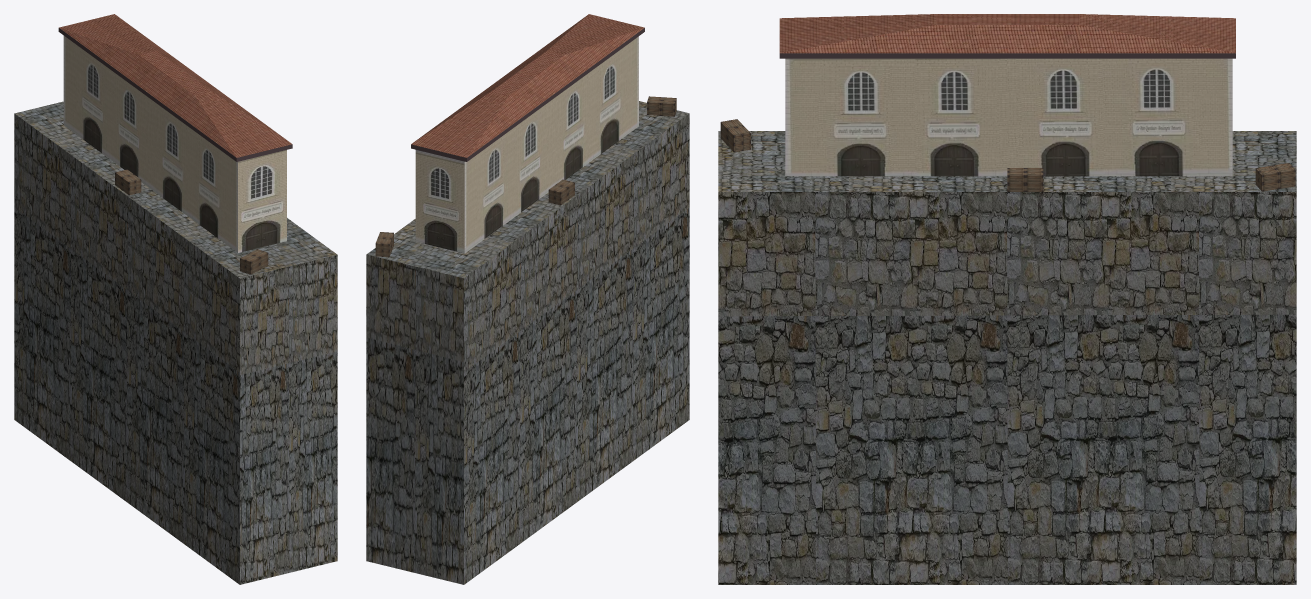
Rendered from market.glb.
The picture shows the model from 3 angles, left to right: view 1: azimuth 30°, elevation 25°; view 2: azimuth 150°, elevation 25°; view 3: azimuth 270°, elevation 25°; orthographic projection. The views are drawn at different scales.
Visible parts, largest first — view 1: Cube.002, Cube, Cube.001, Cube.008; view 2: Cube.002, Cube, Cube.001, Cube.008; view 3: Cube.002, Cube, Cube.001, Cube.008.
Part boxes in pixels (box(x1,y1,x2,y2)): Cube.002: box(14, 101, 337, 584); Cube: box(63, 36, 286, 252); Cube.001: box(58, 14, 292, 161); Cube.008: box(115, 169, 268, 274); Cube.002: box(366, 101, 689, 584); Cube: box(415, 36, 638, 253); Cube.001: box(411, 14, 644, 161); Cube.008: box(375, 96, 676, 257); Cube.002: box(718, 131, 1296, 584); Cube: box(785, 58, 1232, 176); Cube.001: box(779, 14, 1235, 58); Cube.008: box(720, 119, 1295, 191).
Size of the model in its own units: 2 by 8.17 by 8.
5 materials, 4 textured.
